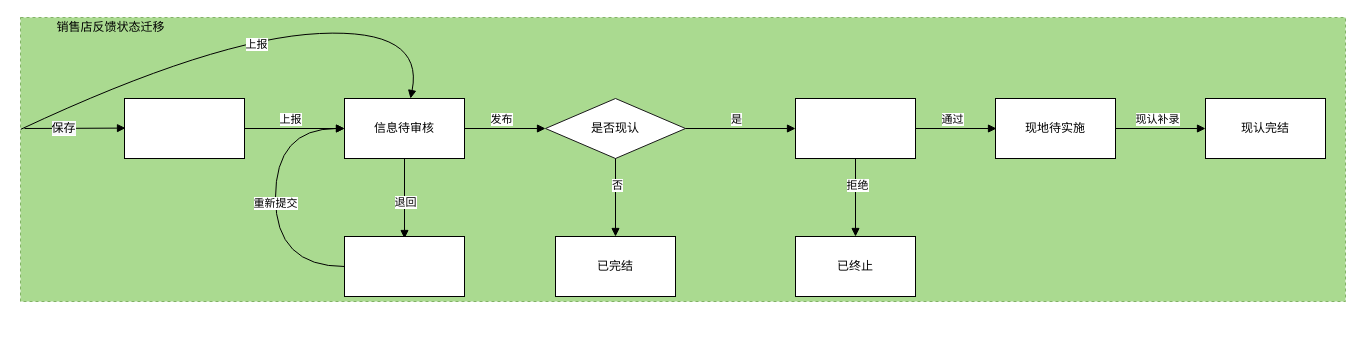
This 1363x344 diagram has some shape labels left out. Here are the shapes that lost their labels. From the top down, the centre of each, then its label:
the point at 184,128: 待提交
the point at 855,128: 现地待确认
the point at 404,266: 已退回
